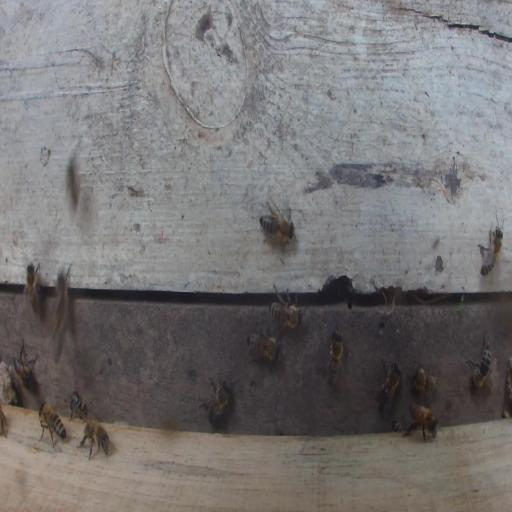nonpollenbee: (76, 409, 112, 466), (256, 204, 296, 248), (401, 400, 440, 445), (36, 398, 67, 453), (202, 377, 234, 430), (377, 358, 401, 421), (245, 330, 281, 370), (9, 348, 37, 398), (479, 222, 504, 278), (469, 338, 493, 396), (51, 264, 70, 337), (269, 292, 304, 330), (410, 356, 439, 399), (326, 331, 346, 389), (22, 259, 42, 316), (69, 386, 89, 426)
